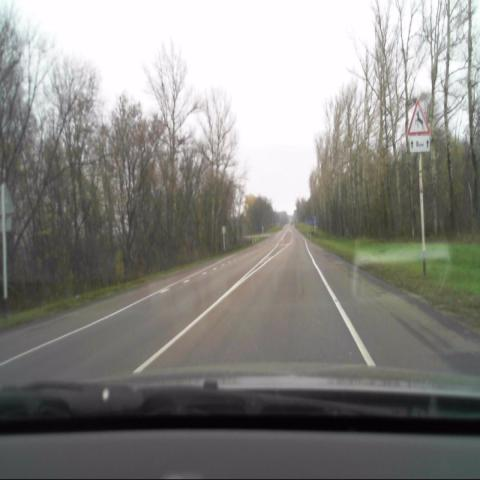1_27: (407, 99, 429, 135)
8_2_1: (409, 135, 431, 152)
